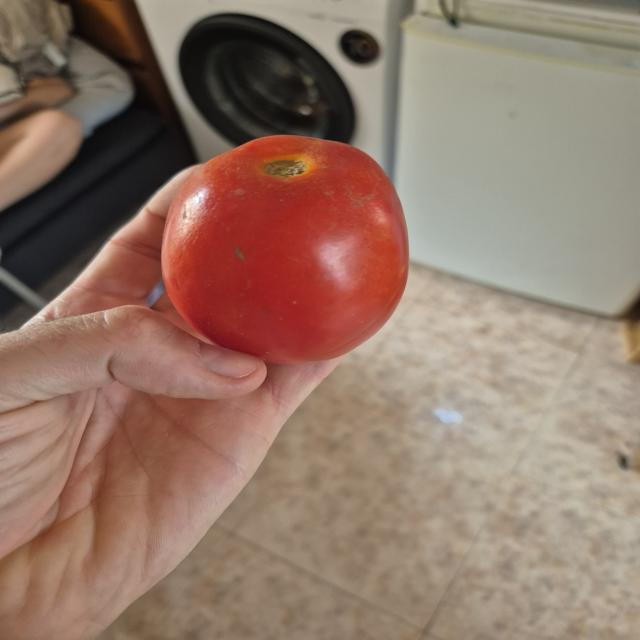tomate: (158, 134, 412, 362)
